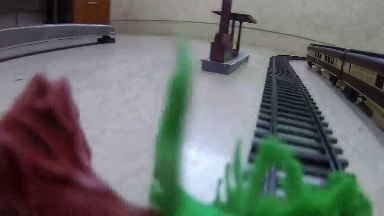tree: (14, 75, 363, 216)
